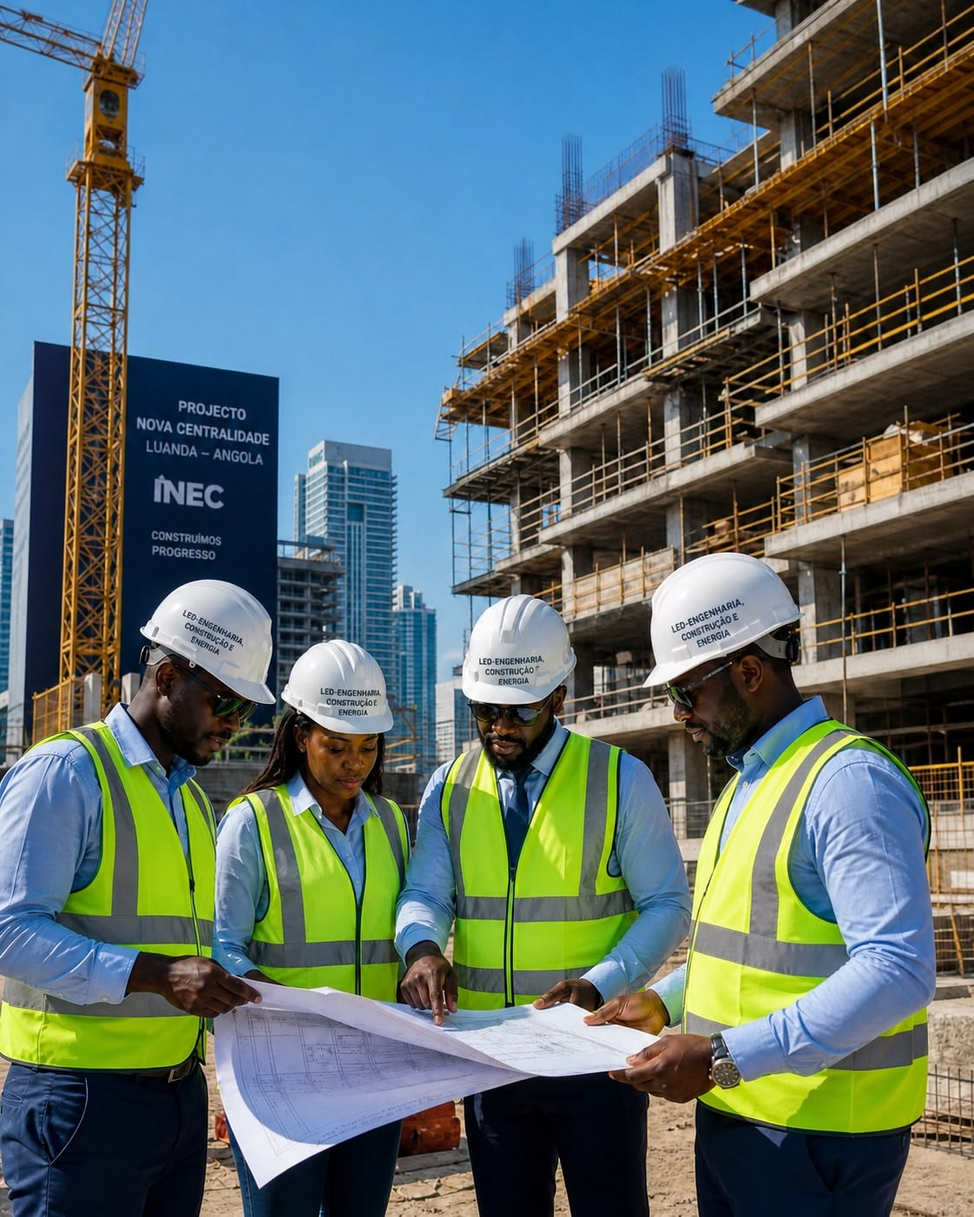hardhat: (134, 569, 274, 703), (452, 584, 584, 715), (269, 634, 405, 755), (657, 562, 794, 678)
person: (628, 550, 953, 1208), (4, 561, 278, 1211), (407, 591, 678, 1211), (225, 626, 451, 1204)
safety_vest: (692, 730, 948, 1157), (22, 720, 211, 1070), (449, 738, 645, 1021), (231, 765, 416, 1032)
